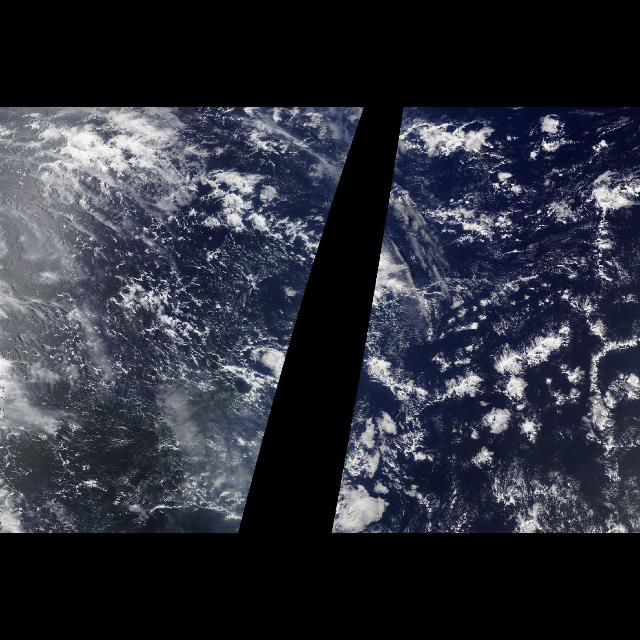Gravel: (80, 203, 296, 405)
Sugar: (441, 329, 565, 461)
